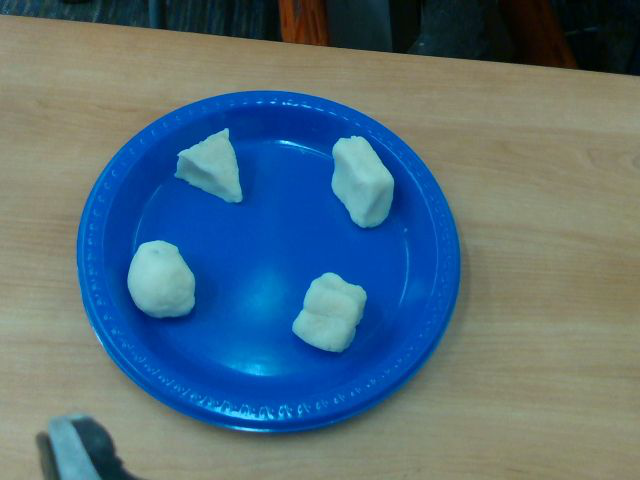mashed_potato: (293, 272, 366, 353), (331, 137, 393, 227), (127, 240, 195, 317), (176, 128, 242, 203)
